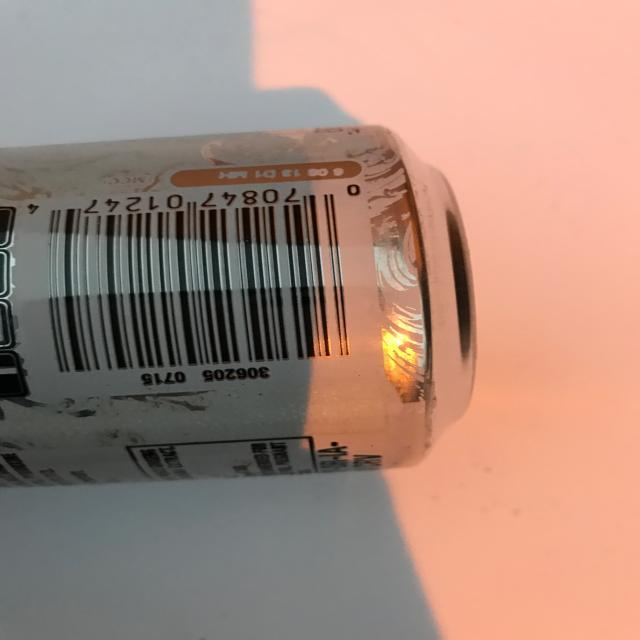metal: (4, 125, 481, 490)
